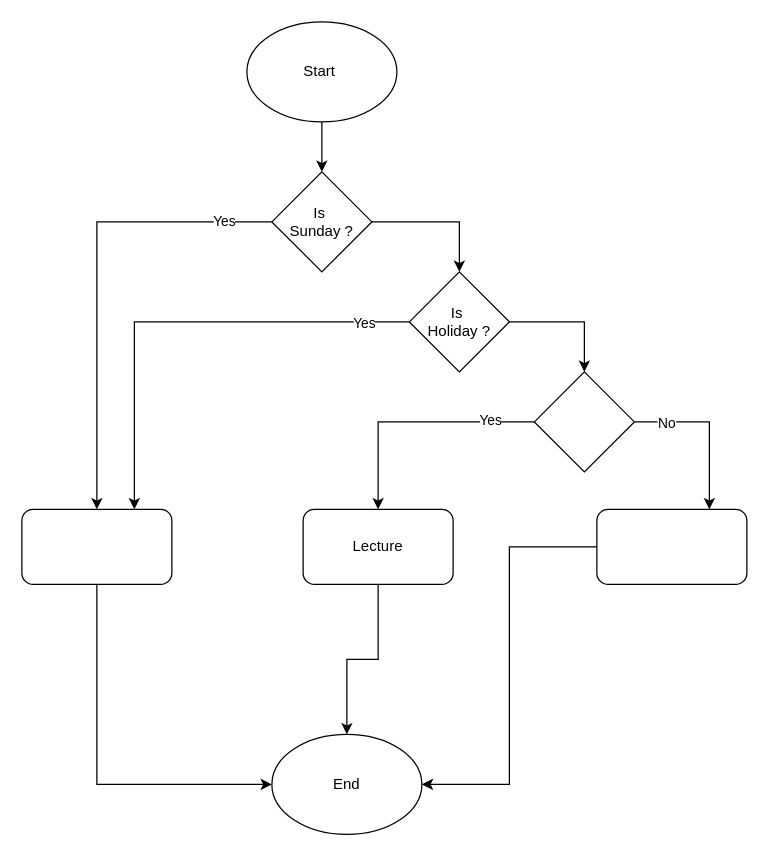
The diagram is 769 pixels wide and 856 high, and some of its shapes have lost their labels. The shapes that lost their labels are listed below. From the top down, each one's box as (x1, y1, x2, y2) in pixels, then its label:
(533, 371, 634, 472): Is TTS ?
(21, 508, 172, 584): No Lecture, Enjoy.
(596, 508, 747, 584): Lab
